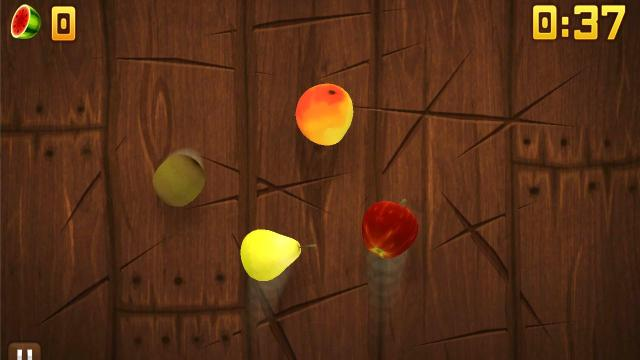fruit: (359, 196, 418, 260), (296, 82, 354, 146), (240, 229, 302, 281), (152, 152, 205, 207)
ignore: (10, 4, 42, 40)
